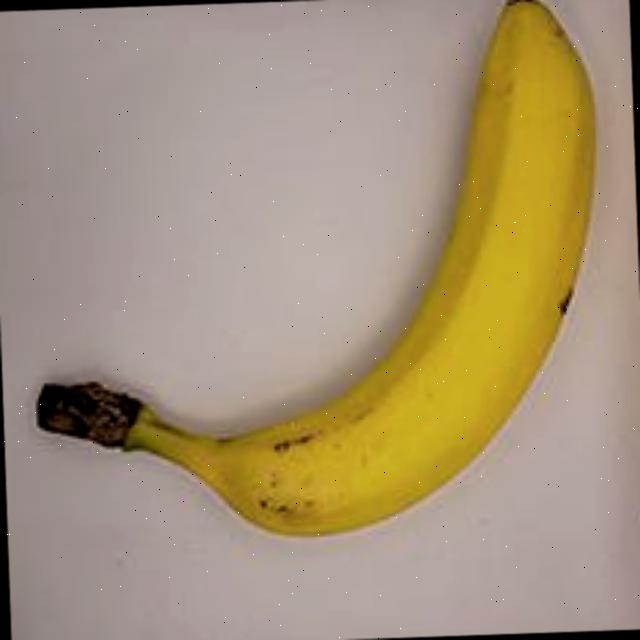Ripe: (0, 0, 622, 589)
